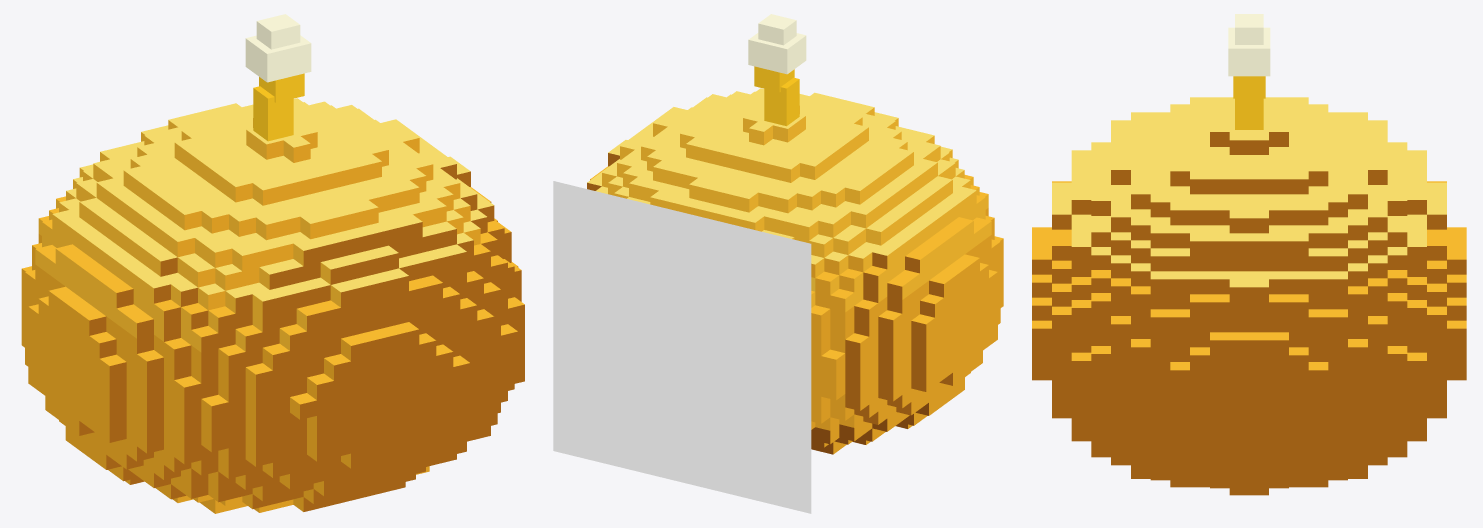
Rendered from slime_electro_large.glb.
3 views of the same model, side by side, from view 1: azimuth 30°, elevation 25°; view 2: azimuth 150°, elevation 25°; view 3: azimuth 270°, elevation 25° (orthographic). The views are drawn at different scales.
Visible parts, largest first — view 1: Shell, ElectroAntenna; view 2: Shell, Face, ElectroAntenna; view 3: Shell, ElectroAntenna.
Part boxes in pixels (left/top/right/bottom): Shell: left=21, top=98, right=524, bottom=513; ElectroAntenna: left=245, top=14, right=311, bottom=141; Shell: left=587, top=88, right=1003, bottom=454; Face: left=553, top=181, right=811, bottom=513; ElectroAntenna: left=748, top=14, right=806, bottom=126; Shell: left=1032, top=97, right=1466, bottom=495; ElectroAntenna: left=1228, top=14, right=1270, bottom=129.
Bounding box in the file's own units: 1.92 × 1.97 × 1.83.
